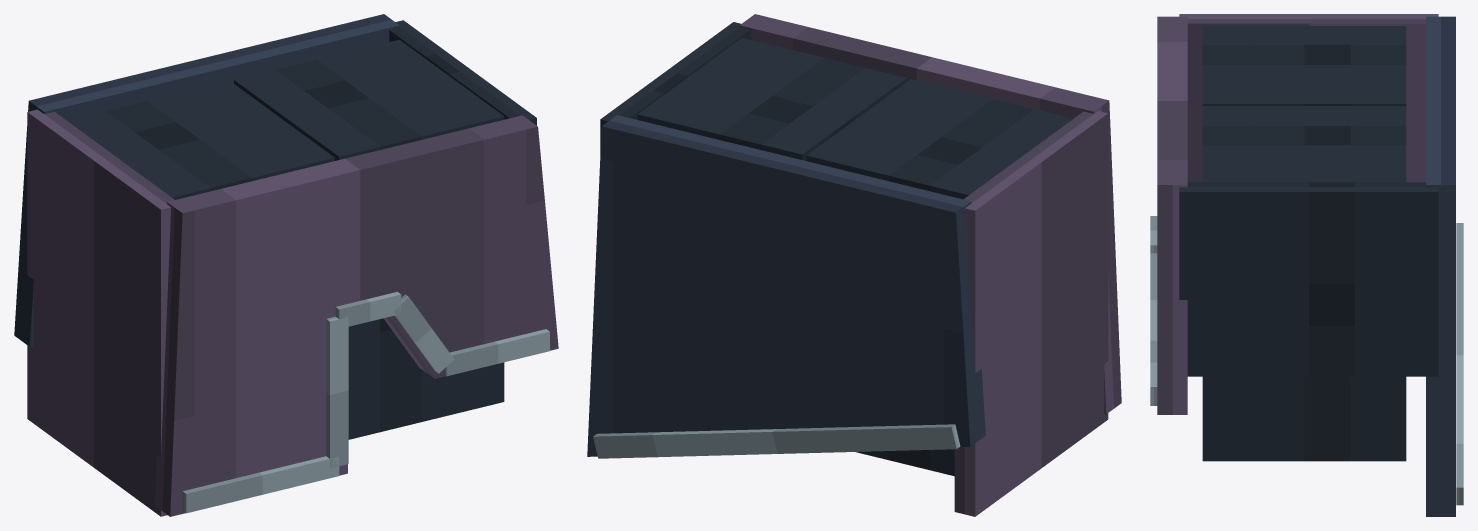
File: zhuji_wuyao_yeque_leggings.obj
The picture shows the model from 3 angles, left to right: view 1: azimuth 30°, elevation 25°; view 2: azimuth 150°, elevation 25°; view 3: azimuth 270°, elevation 25°; orthographic projection. The views are drawn at different scales.
Visible parts, largest first — view 1: night_front_hem, night_left_side, night_pants_1, night_pants_-1, night_back_hem, night_front_hem_edge_0, night_front_hem_edge_1, night_right_side, night_front_hem_edge_4, night_front_hem_edge_3, night_front_hem_edge_2; view 2: night_back_hem, night_left_side, night_pants_-1, night_pants_1, night_front_hem, night_back_hem_edge, night_right_side; view 3: night_right_side, night_pants_1, night_pants_-1, night_back_hem, night_front_hem, night_left_side, night_back_hem_edge, night_front_hem_edge_3, night_front_hem_edge_4.
Boxes of the visible parts, box(x1,y1,x2,y2) form: night_front_hem: box(154, 115, 558, 516); night_left_side: box(27, 109, 174, 516); night_pants_1: box(234, 39, 504, 439); night_pants_-1: box(67, 81, 334, 199); night_back_hem: box(14, 14, 399, 346); night_front_hem_edge_0: box(182, 456, 339, 513); night_front_hem_edge_1: box(326, 316, 348, 468); night_right_side: box(389, 20, 536, 125); night_front_hem_edge_4: box(443, 329, 549, 376); night_front_hem_edge_3: box(393, 294, 454, 373); night_front_hem_edge_2: box(335, 292, 401, 328); night_back_hem: box(587, 115, 985, 456); night_left_side: box(954, 111, 1108, 516); night_pants_-1: box(806, 79, 1072, 476); night_pants_1: box(637, 38, 906, 160); night_front_hem: box(739, 14, 1121, 414); night_back_hem_edge: box(593, 424, 960, 458); night_right_side: box(600, 22, 749, 152); night_right_side: box(1179, 182, 1438, 376); night_pants_1: box(1202, 106, 1406, 461); night_pants_-1: box(1202, 26, 1406, 105); night_back_hem: box(1426, 16, 1455, 516); night_front_hem: box(1157, 16, 1187, 414); night_left_side: box(1179, 14, 1438, 182); night_back_hem_edge: box(1456, 223, 1463, 505); night_front_hem_edge_3: box(1150, 253, 1157, 340); night_front_hem_edge_4: box(1150, 340, 1157, 405).
Bounding box in the file's own units: 0.5906 × 0.4844 × 0.4231.
